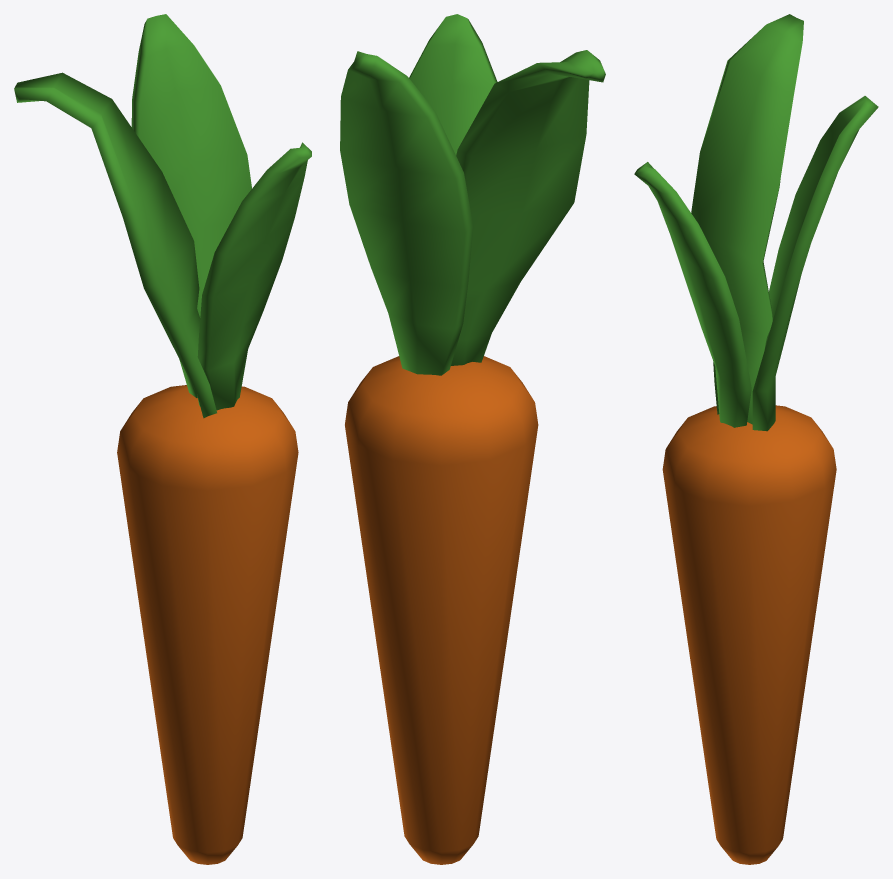
File: carrot.fbx
The picture shows the model from 3 angles, left to right: view 1: azimuth 30°, elevation 25°; view 2: azimuth 150°, elevation 25°; view 3: azimuth 270°, elevation 25°; orthographic projection. The views are drawn at different scales.
Visible parts, largest first — view 1: Carrot; view 2: Carrot; view 3: Carrot.
Boxes of the visible parts, x1,y1,x2,y2 form: Carrot: (14,14,311,864); Carrot: (340,14,605,864); Carrot: (634,14,878,864).
Bounding box in the file's own units: 16.69 × 18.99 × 57.55.
